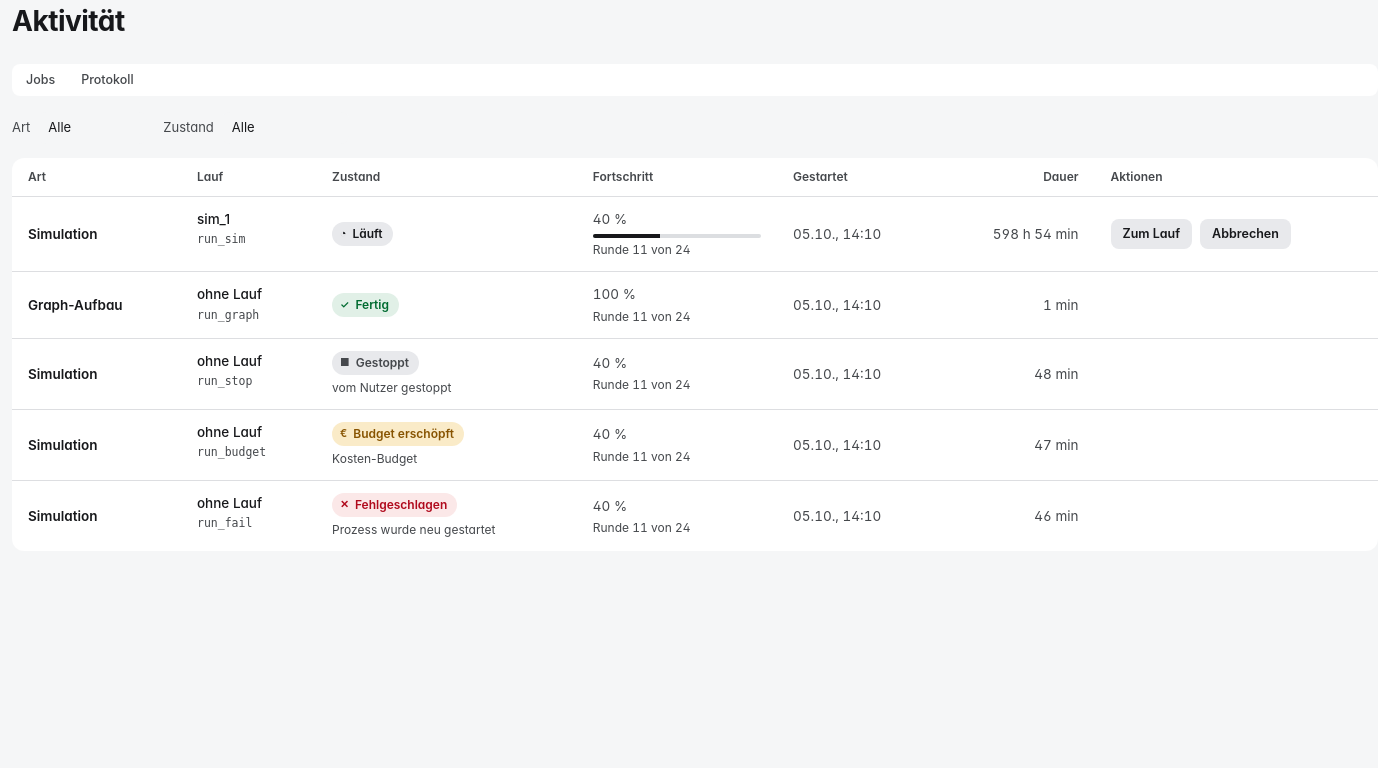
ActivityJobsView › filtert nach Art und Zustand und zeigt den Leerzustand des Filters
Select "Graph-Aufbau" in the dropdown with test id "filter-kind" at (93, 128), box x1=38 y1=112 x2=147 y2=144
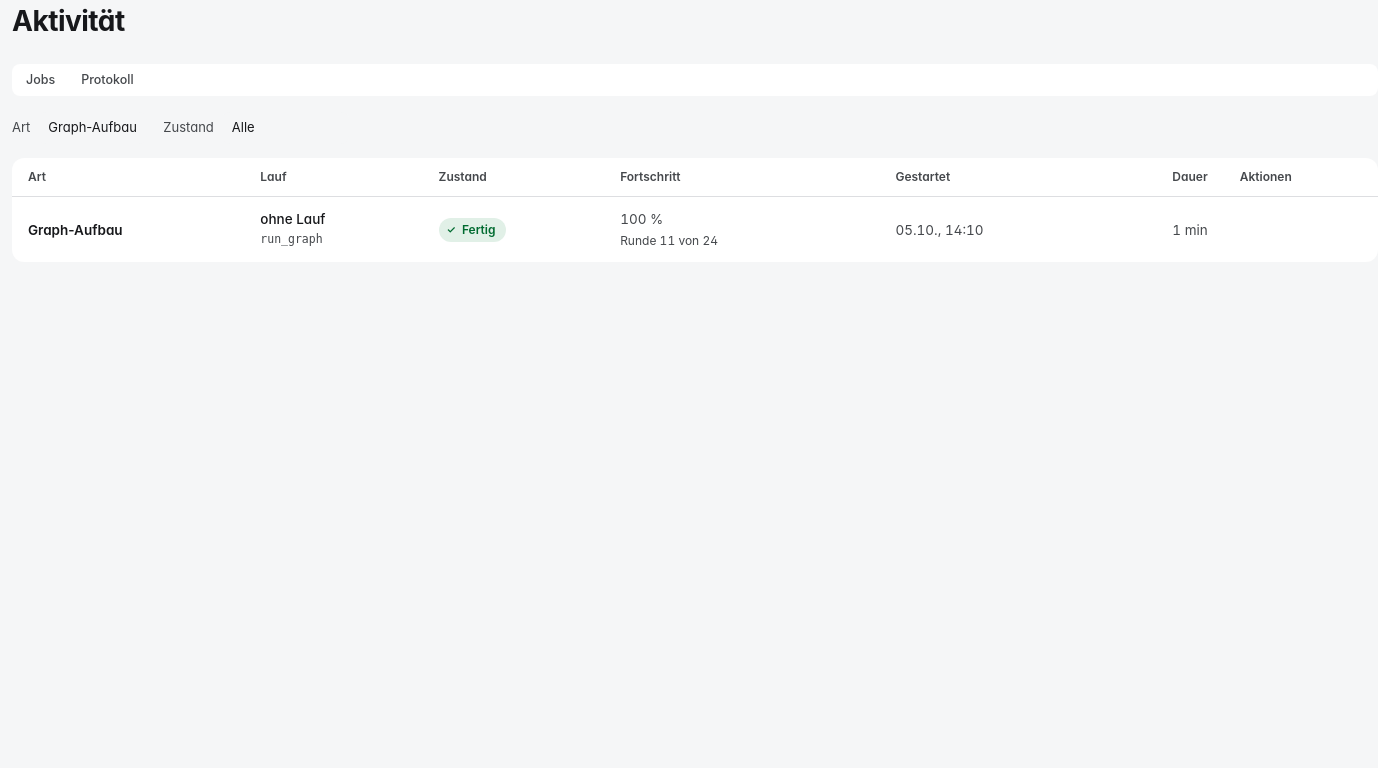
Select "Alle" in the dropdown with test id "filter-kind" at (93, 128), box x1=38 y1=112 x2=147 y2=144
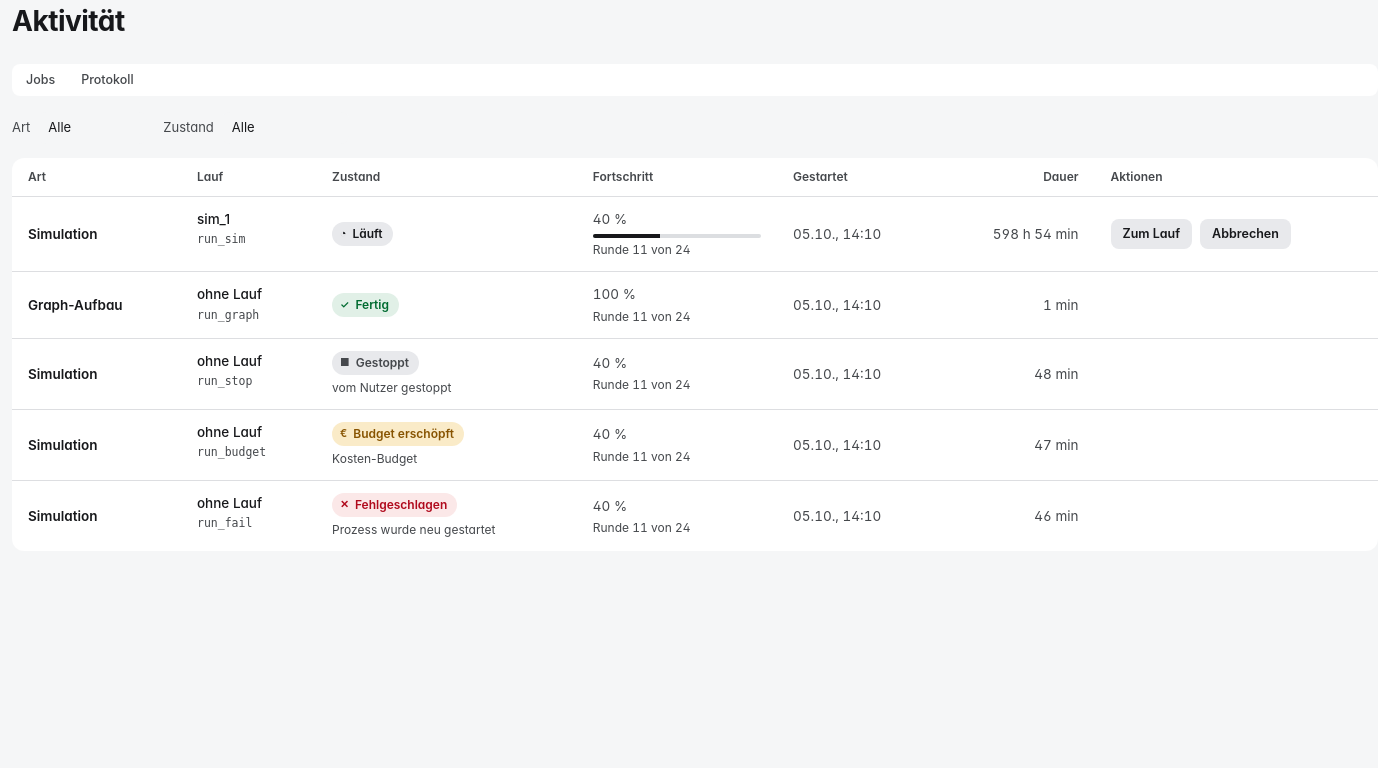
Select "Budget erschöpft" in the dropdown with test id "filter-state" at (285, 128), box x1=222 y1=112 x2=349 y2=144
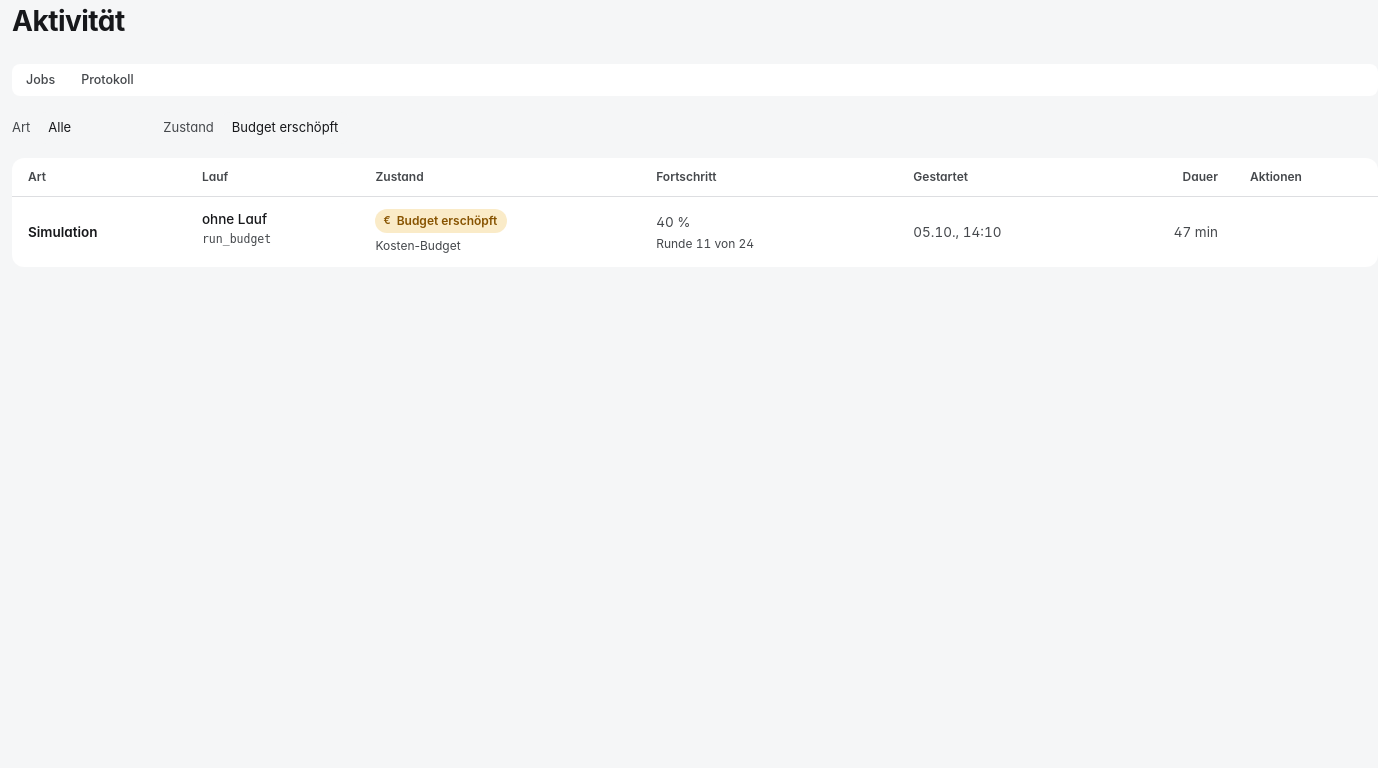
Select "Pausiert" in the dropdown with test id "filter-state" at (285, 128), box x1=222 y1=112 x2=349 y2=144
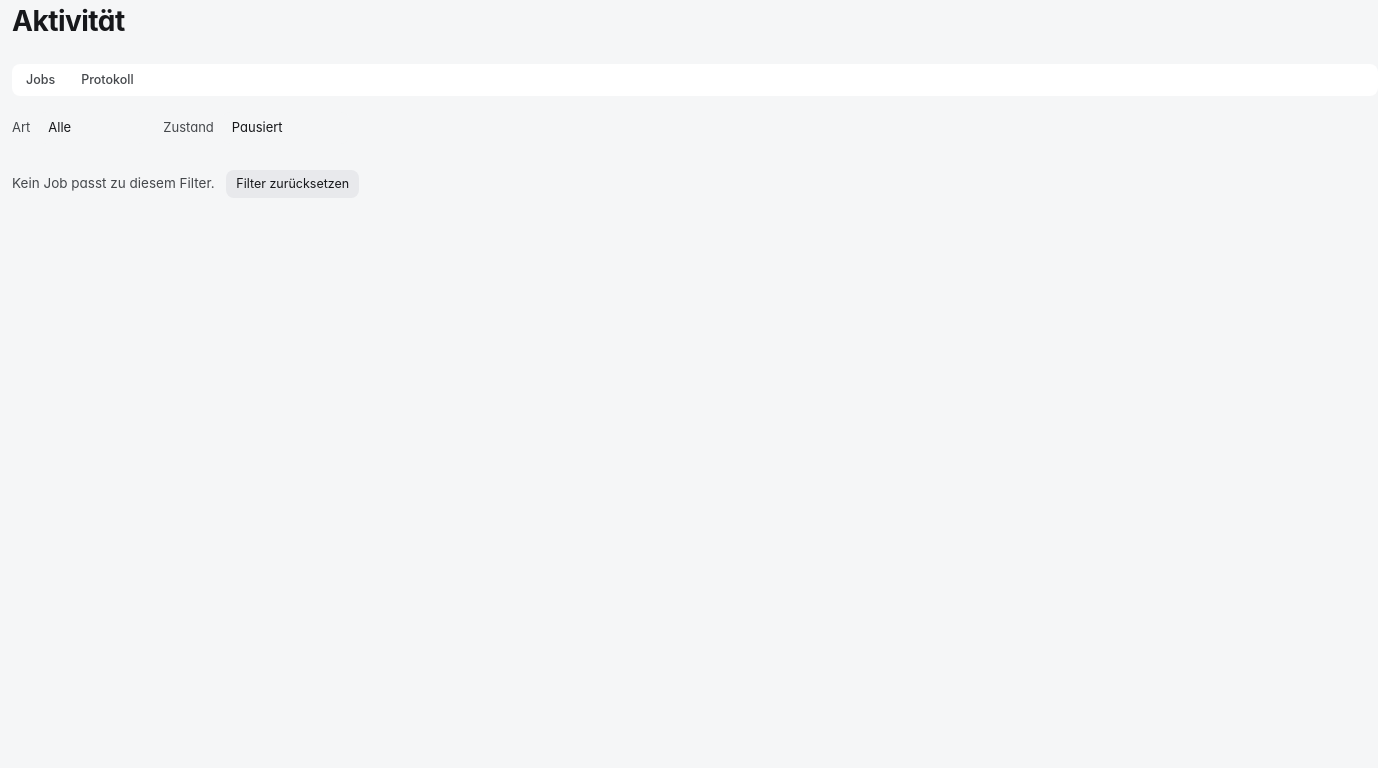
Result: the element with test id "empty" shows "Kein Job passt" at x1=12 y1=175 x2=218 y2=191
